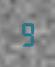nine: (19, 20, 34, 46)
